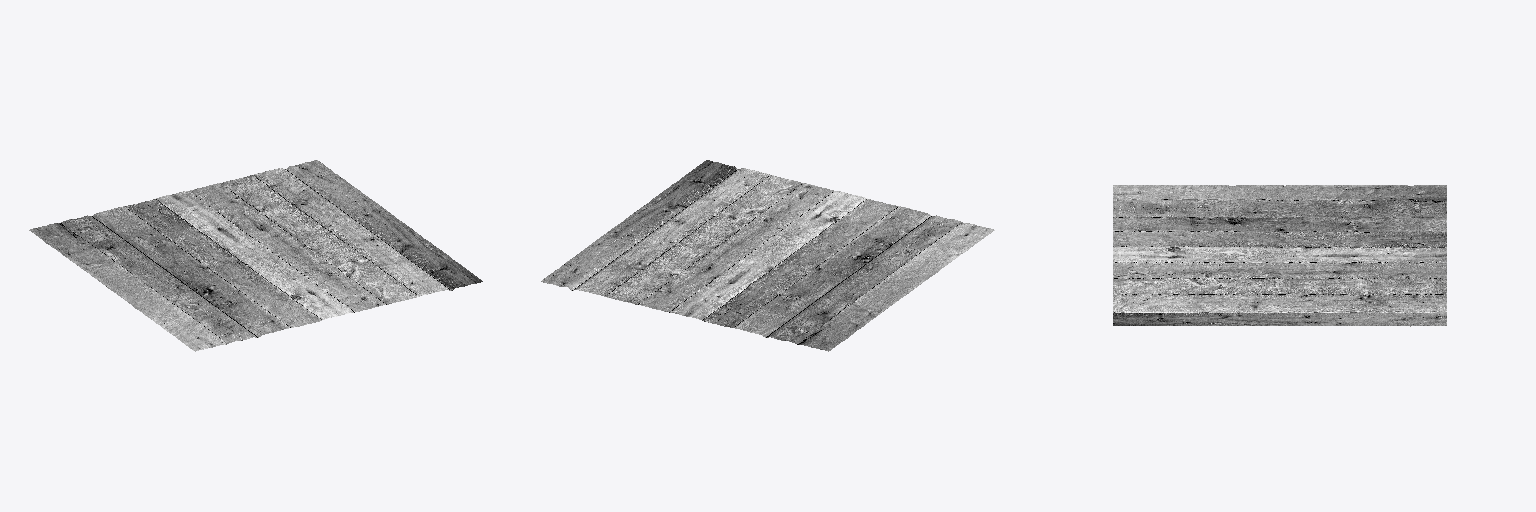
3 renders of one model, left to right at view 1: azimuth 30°, elevation 25°; view 2: azimuth 150°, elevation 25°; view 3: azimuth 270°, elevation 25°, orthographic.
Parts seen in each view (by area): view 1: plankHeight_Plane.001; view 2: plankHeight_Plane.001; view 3: plankHeight_Plane.001.
Boxes of the visible parts, x1,y1,x2,y2 form: plankHeight_Plane.001: [29, 160, 482, 351]; plankHeight_Plane.001: [541, 160, 994, 351]; plankHeight_Plane.001: [1113, 185, 1446, 326].
Bounding box in the file's own units: 2 × 0.025 × 2.
Materials: 1 (1 with a texture image).